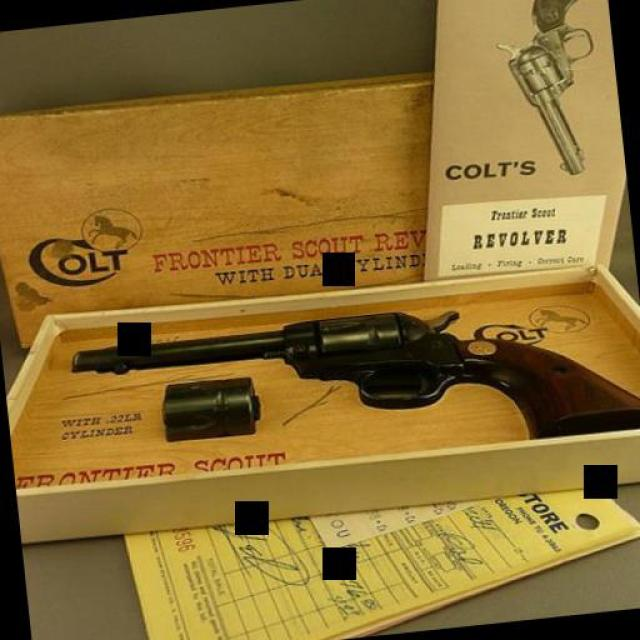gun: (67, 285, 640, 484)
